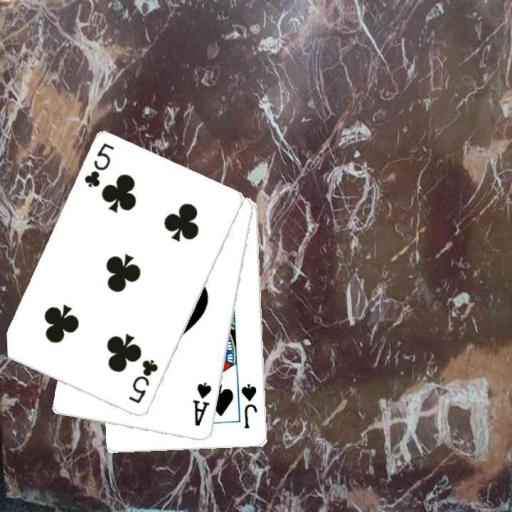5C: (125, 357, 160, 406), (81, 140, 116, 189)
AS: (190, 380, 213, 428)
JS: (238, 381, 260, 431)
